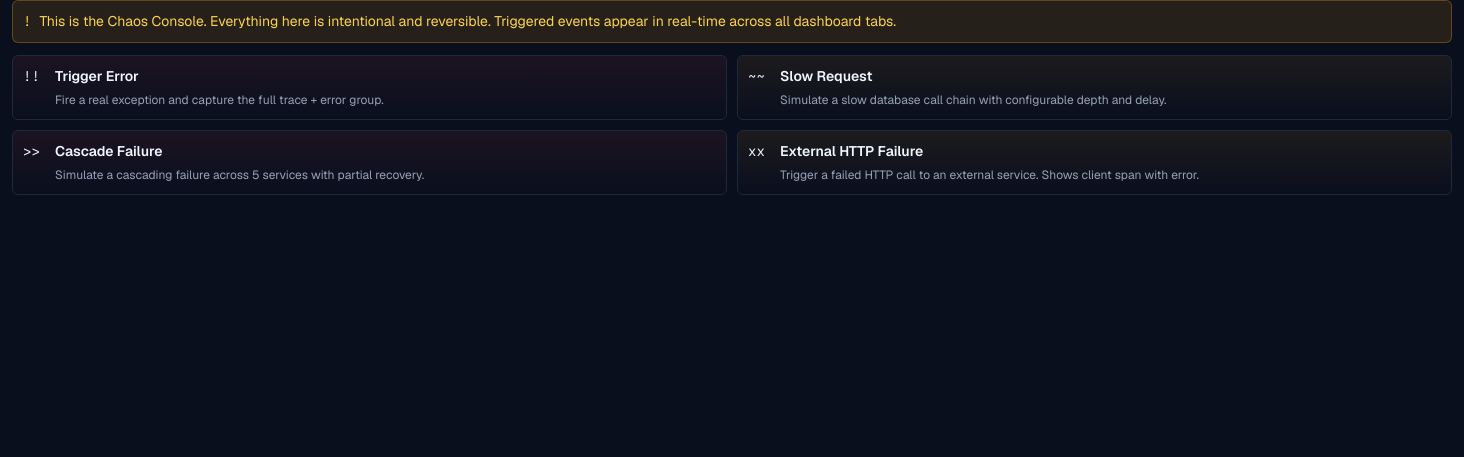
Test case: ChaosConsole › collapses config panel on second click
This screenshot has width=1464, height=457.
Click the text "Trigger Error" at (97, 76), box [55,67,139,85]
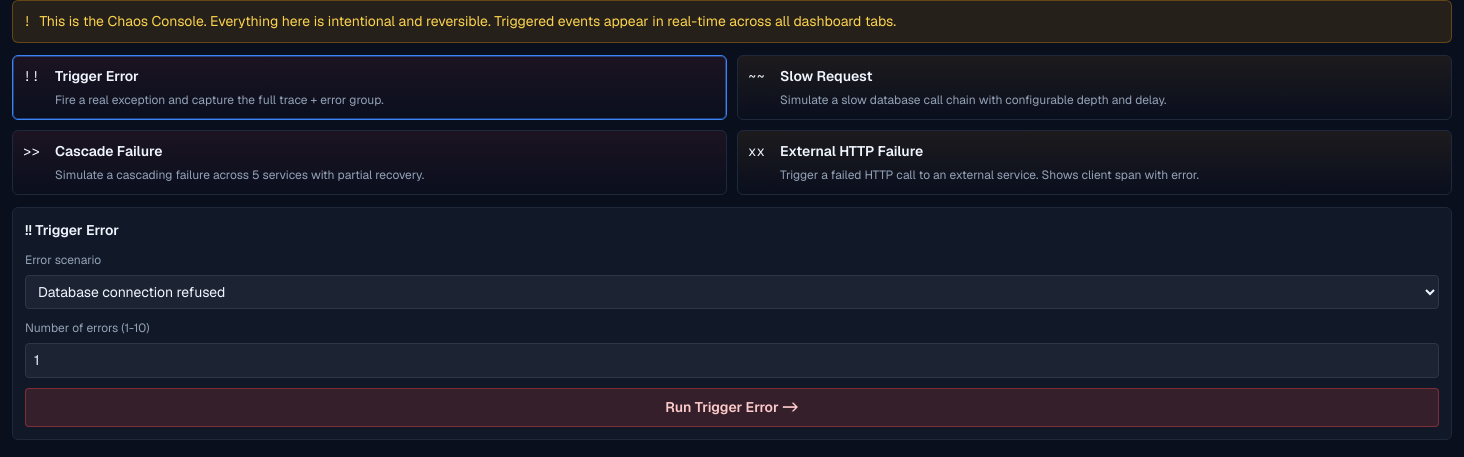
Click the text "Trigger Error" at (97, 76), box [55,67,139,85]
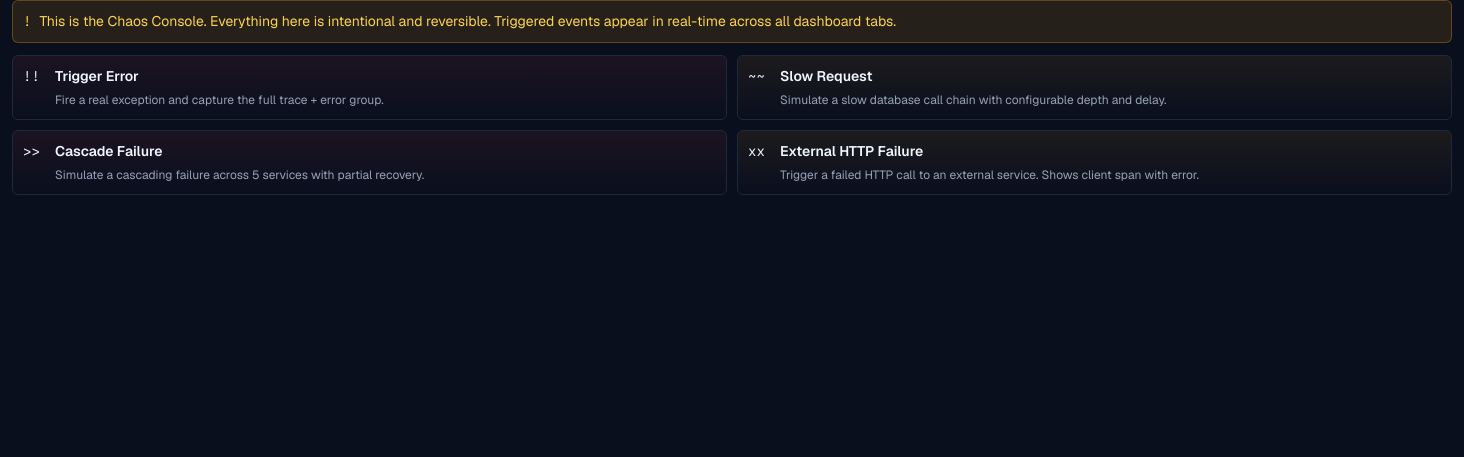
Result: the text "Error scenario" is gone
